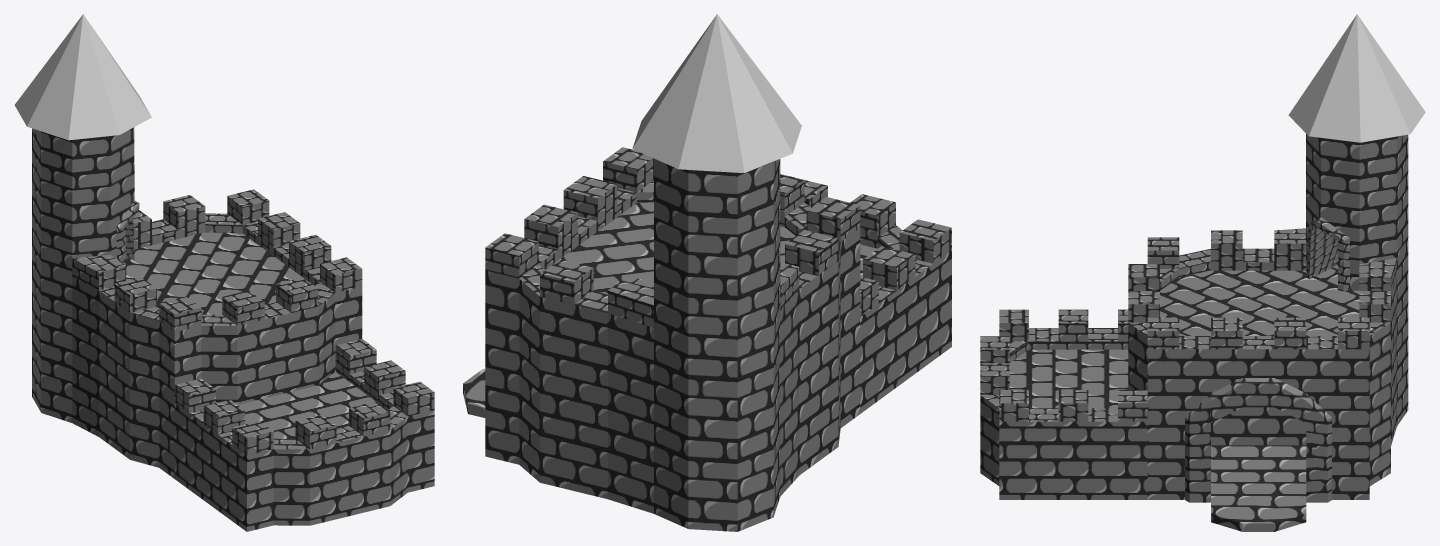
Rendered from MiniCastle.fbx.
3 renders of one model, left to right at view 1: azimuth 30°, elevation 25°; view 2: azimuth 150°, elevation 25°; view 3: azimuth 270°, elevation 25°, orthographic. The views are drawn at different scales.
Visible parts, largest first — view 1: Cube; view 2: Cube; view 3: Cube.
Part boxes in pixels (bbox=[...]): Cube: bbox=[14, 14, 434, 531]; Cube: bbox=[463, 14, 951, 531]; Cube: bbox=[980, 14, 1425, 531].
Size of the model in its own units: 1031 by 1278 by 1299.
